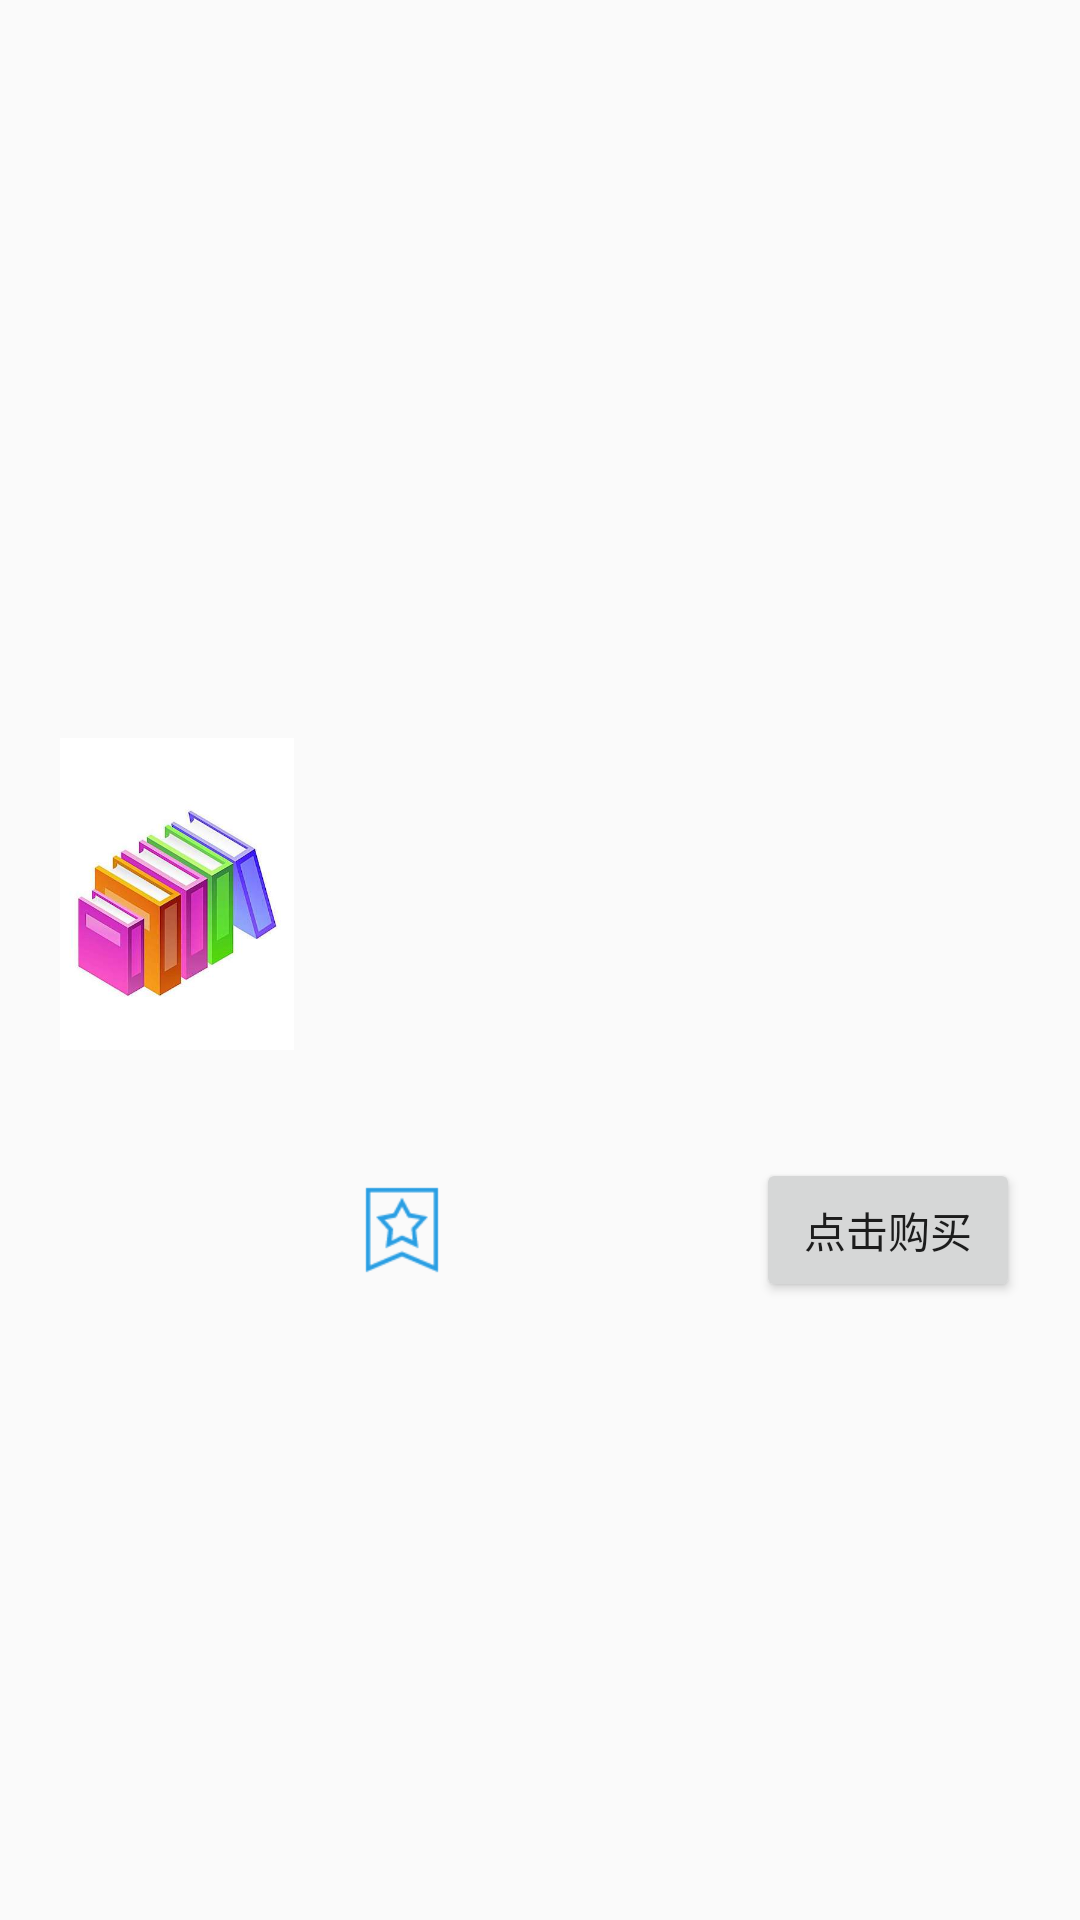

Icon bounding boxes for this 1080px×1920px phone screenshot, format Rect(x1, y1, x2, y2):
book: Rect(78, 811, 278, 996)
